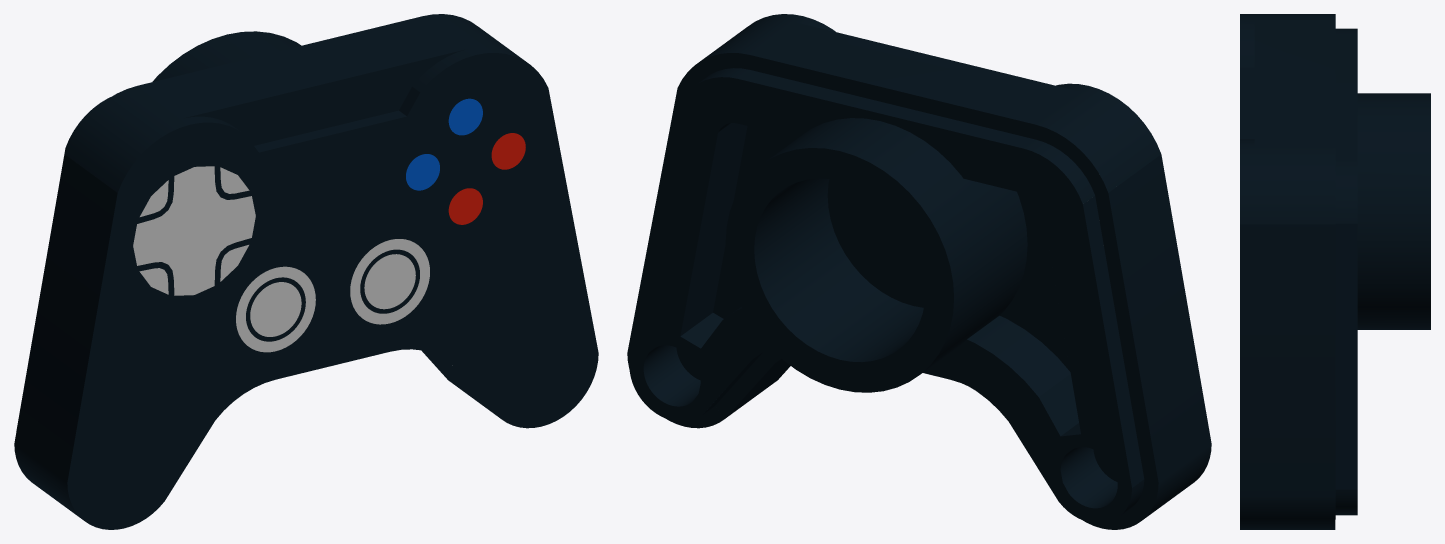
The model's file is lego-minifig-gamepad.glb.
3 renders of one model, left to right at view 1: azimuth 30°, elevation 25°; view 2: azimuth 150°, elevation 25°; view 3: azimuth 270°, elevation 25°, orthographic. The views are drawn at different scales.
Parts seen in each view (by area): view 1: lego-minifig-gamepad; view 2: lego-minifig-gamepad; view 3: lego-minifig-gamepad.
Boxes of the visible parts, <box> form: lego-minifig-gamepad: <box>14,14,598,529</box>; lego-minifig-gamepad: <box>627,14,1211,529</box>; lego-minifig-gamepad: <box>1240,14,1430,529</box>.
Size of the model in its own units: 0.37 by 0.258 by 0.128.
